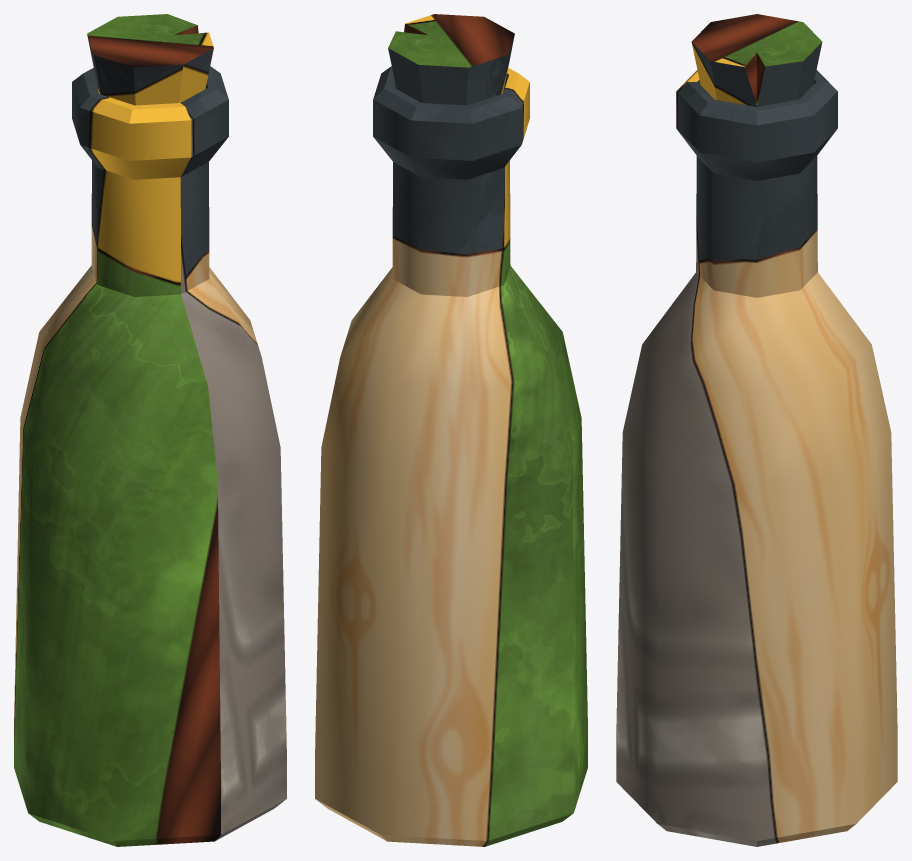
The model's file is SM_Bottle.fbx.
3 views of the same model, side by side, from view 1: azimuth 30°, elevation 25°; view 2: azimuth 150°, elevation 25°; view 3: azimuth 270°, elevation 25° (orthographic).
Parts seen in each view (by area): view 1: SM_Wine_Bottle015; view 2: SM_Wine_Bottle015; view 3: SM_Wine_Bottle015.
Boxes of the visible parts, x1,y1,x2,y2 form: SM_Wine_Bottle015: (14, 14, 286, 846); SM_Wine_Bottle015: (315, 14, 587, 846); SM_Wine_Bottle015: (616, 14, 897, 846).
Size of the model in its own units: 16.2 by 47.94 by 16.2.
